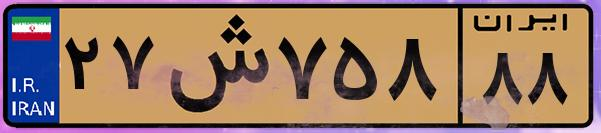2: (57, 26, 110, 100)
5: (330, 28, 385, 110)
7: (270, 28, 330, 110), (110, 28, 158, 98)
8: (385, 28, 445, 110), (475, 38, 525, 113), (525, 38, 570, 115)
ش: (158, 12, 270, 120)
